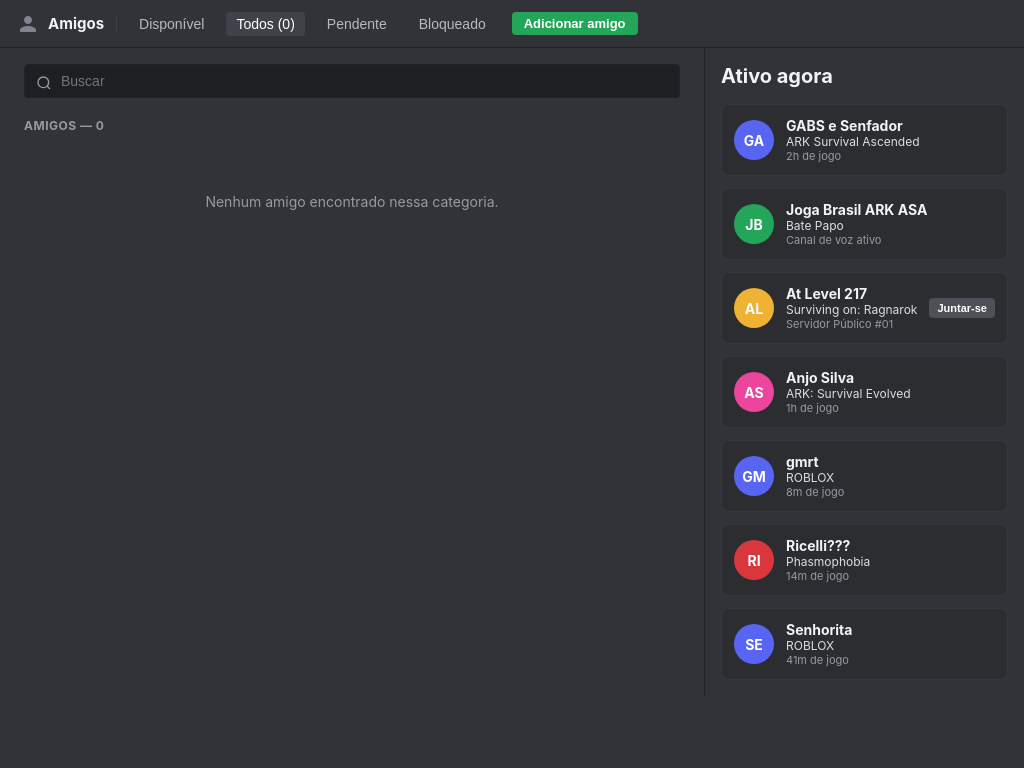
Scenario: amizades e navegação por teclado › descobre usuários cadastrados, exclui a própria conta e envia pelo ID real
Click the button with test id "tab-friends-add". click: (575, 24)
box: [512,12,638,35]
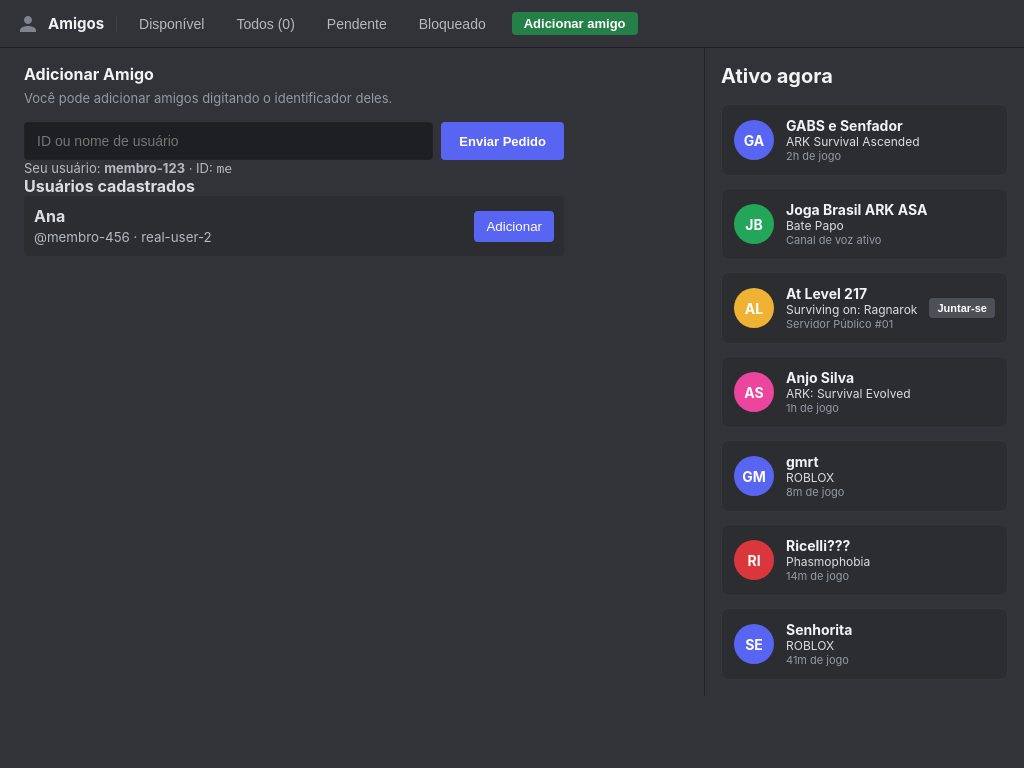
Expected: the text "Seu usuário: membro-123" is shown, [24,160,232,176]
Expected: the button with aria-label "Adicionar Ana" is shown
Expected: the text "@membro-456" is shown, [34,229,212,245]
Click the button with aria-label "Adicionar Ana". click: (514, 226)
box: [474,210,554,242]
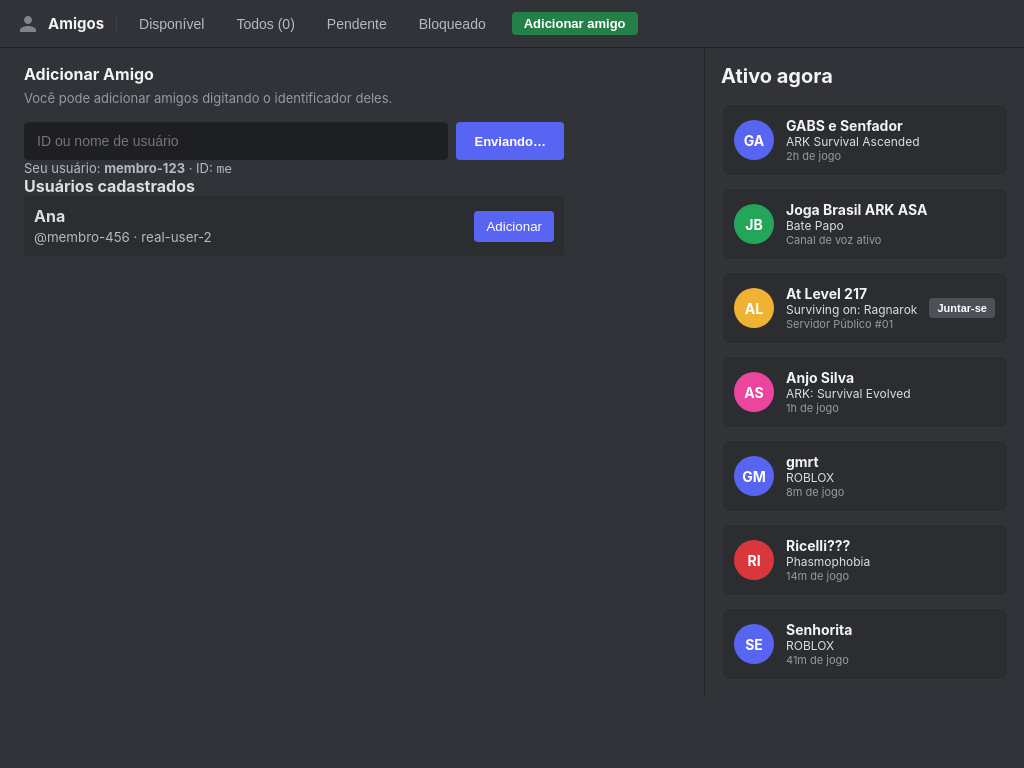
Click the button with aria-label "Adicionar Ana". click: (514, 226)
box: [474,210,554,242]
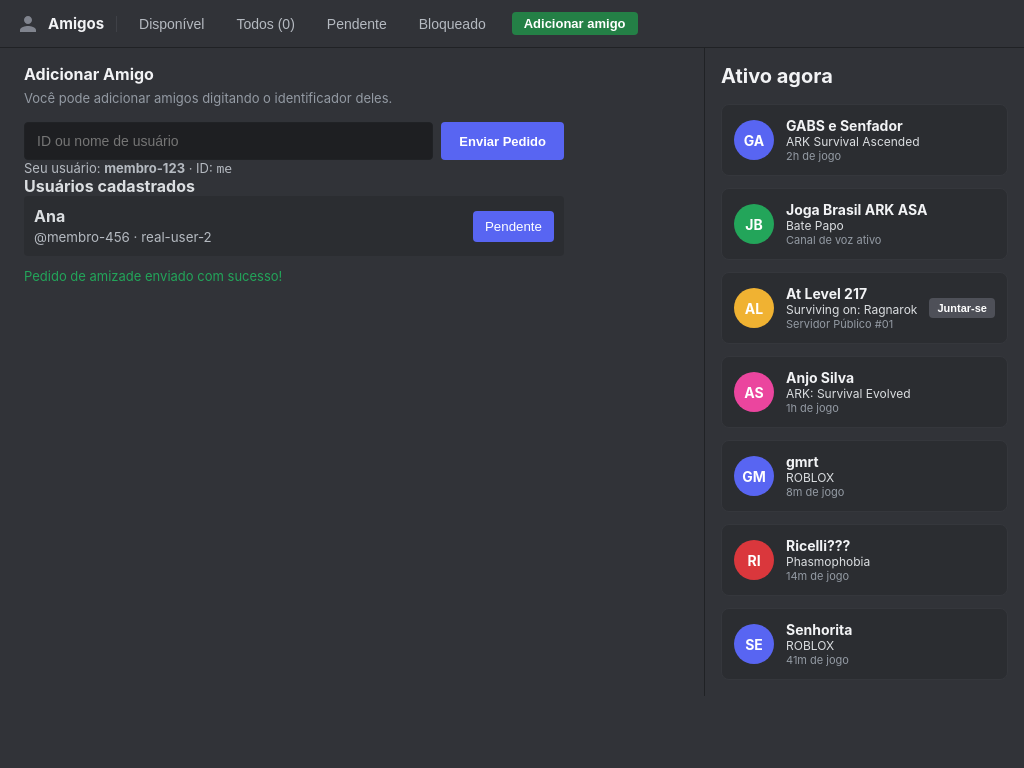
Expected: the button with aria-label "Adicionar Ana" is disabled, [473,210,554,242]
Expected: the button with aria-label "Adicionar Ana" reads "Pendente", [473,210,554,242]
Expected: the message "Pedido de amizade enviado com sucesso!" is shown, [24,268,282,284]
